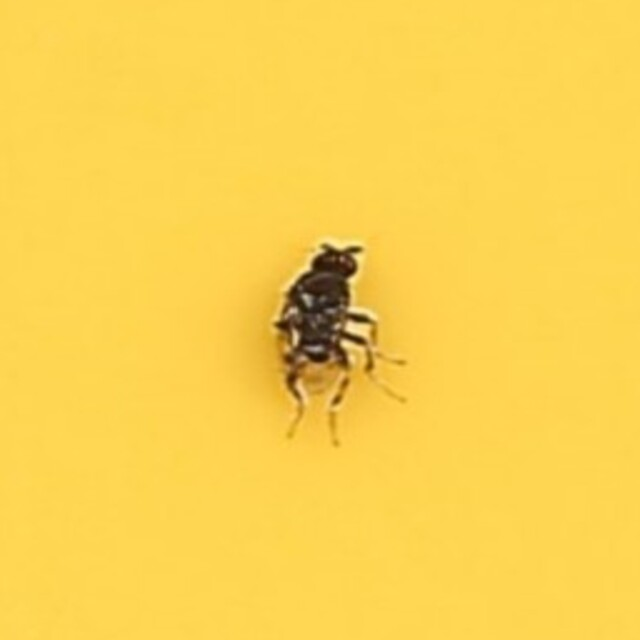Brachycera: (250, 224, 390, 416)
